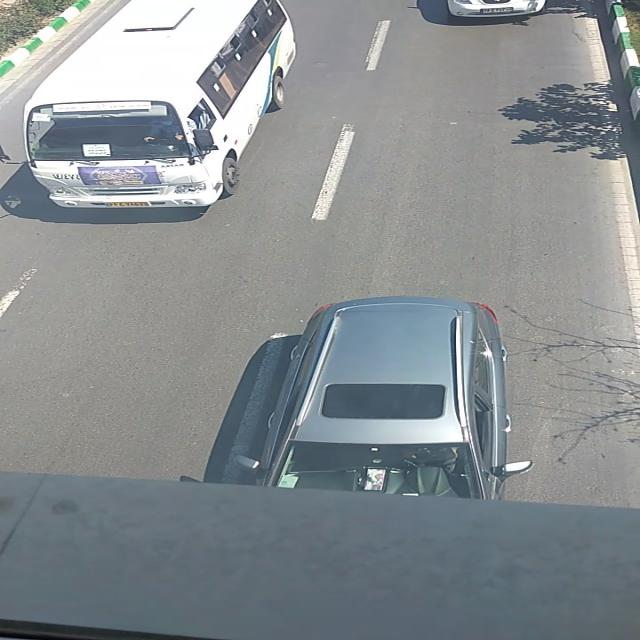bus: (21, 1, 297, 207)
car: (236, 296, 535, 500), (445, 0, 548, 18)
